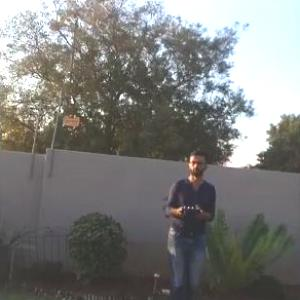follow: (154, 144, 218, 299)
